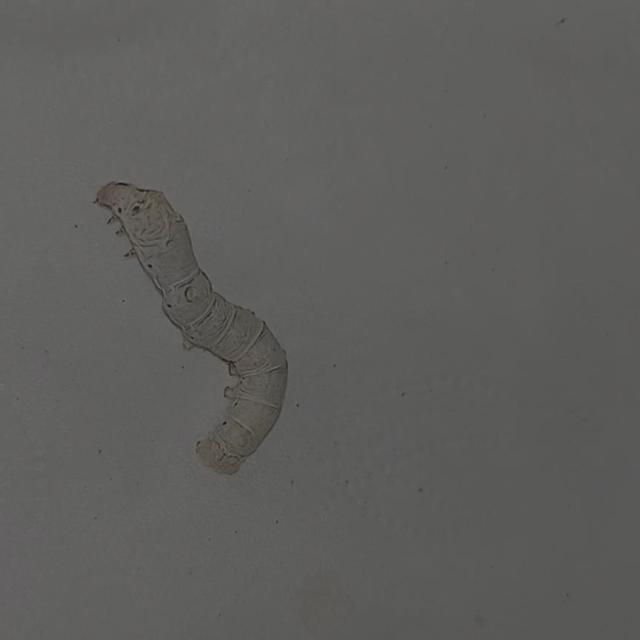Healthy: (85, 172, 301, 485)
